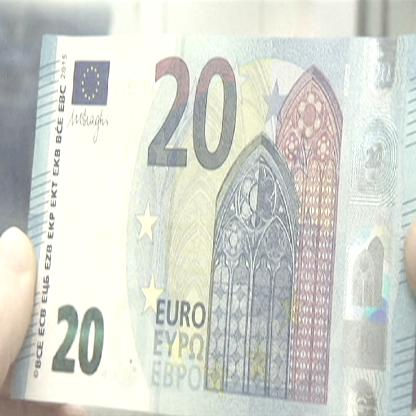euro_banknote: (9, 34, 416, 416)
